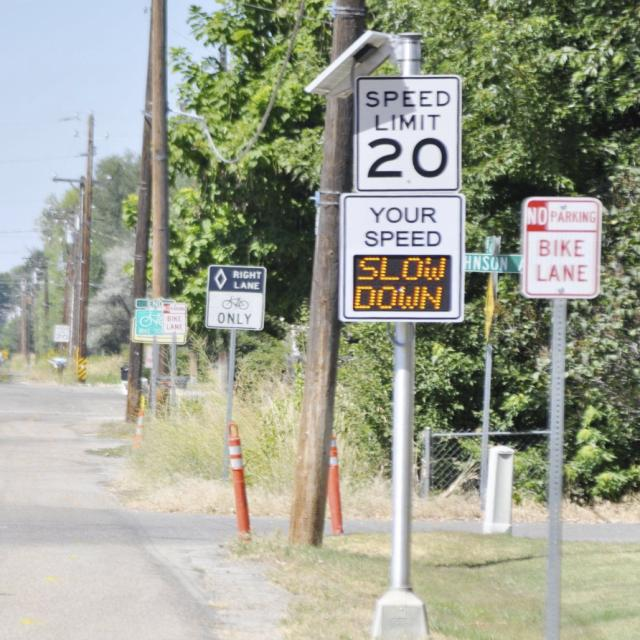speedLimit20: (359, 78, 457, 188)
